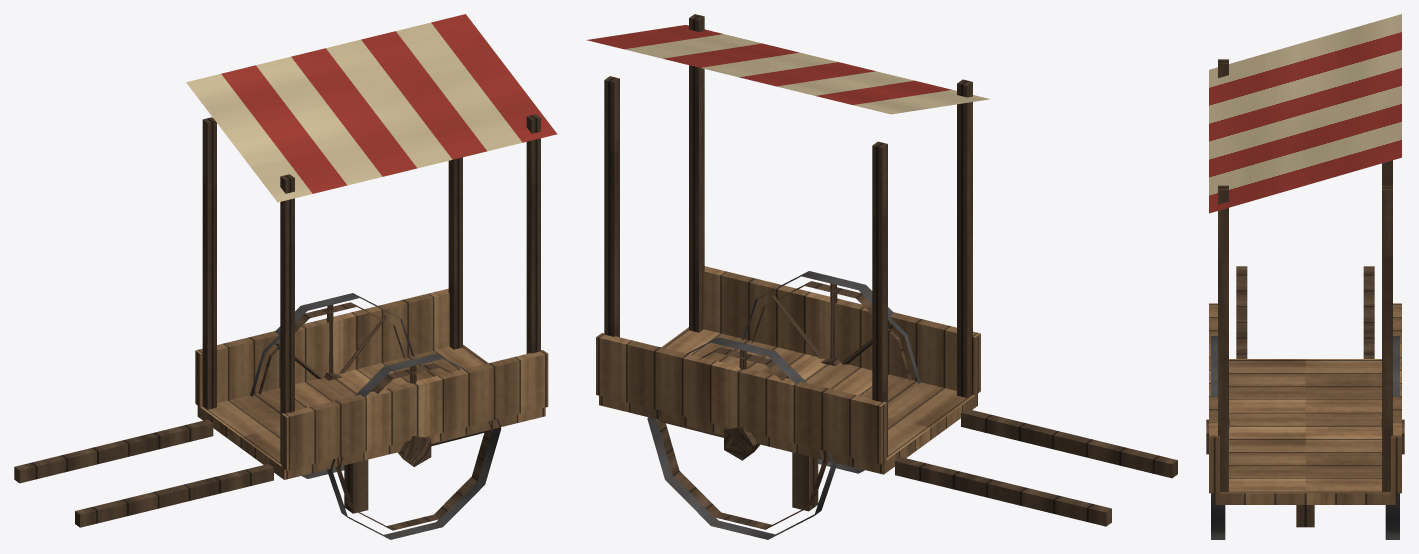
File: Stall_Cart_Empty_LOD1.gltf
3 renders of one model, left to right at view 1: azimuth 30°, elevation 25°; view 2: azimuth 150°, elevation 25°; view 3: azimuth 270°, elevation 25°, orthographic. The views are drawn at different scales.
Visible parts, largest first — view 1: Stall_Cart_Empty_LOD1; view 2: Stall_Cart_Empty_LOD1; view 3: Stall_Cart_Empty_LOD1.
Boxes of the visible parts, x1,y1,x2,y2 form: Stall_Cart_Empty_LOD1: (14,14,557,539); Stall_Cart_Empty_LOD1: (586,14,1177,539); Stall_Cart_Empty_LOD1: (1206,14,1404,539).
Bounding box in the file's own units: 3.02 × 2.63 × 1.06.
4 materials, 4 textured.
